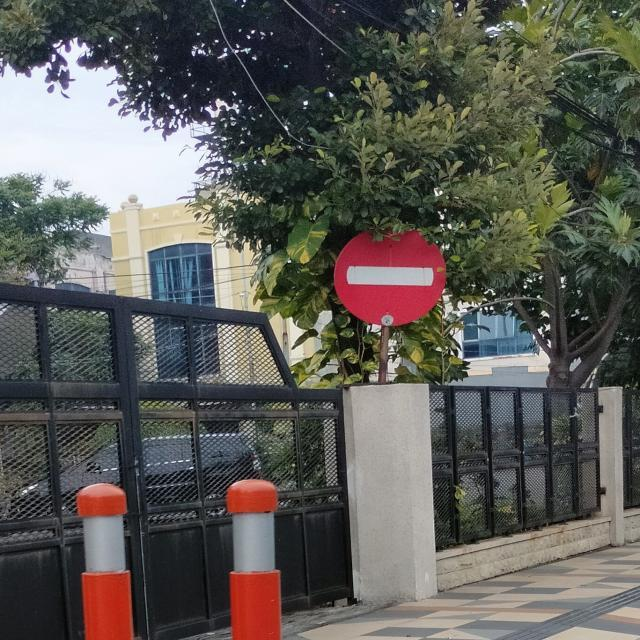Dilarang Masuk: (334, 222, 444, 328)
